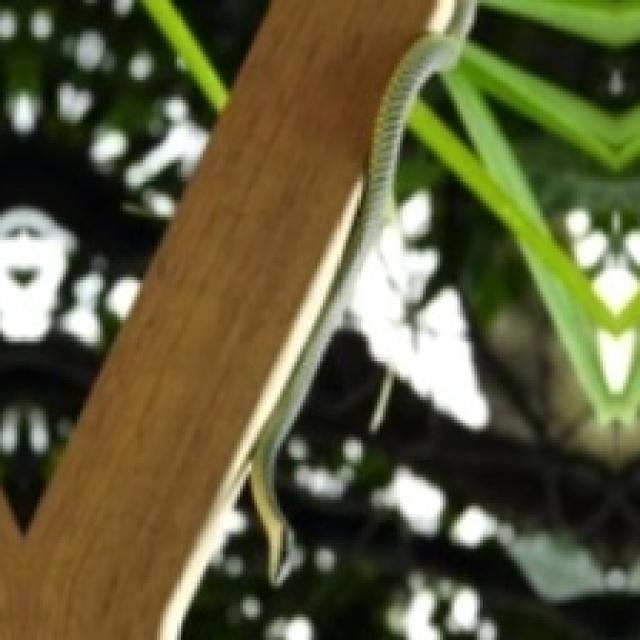paradise tree snake: (0, 0, 474, 637)
